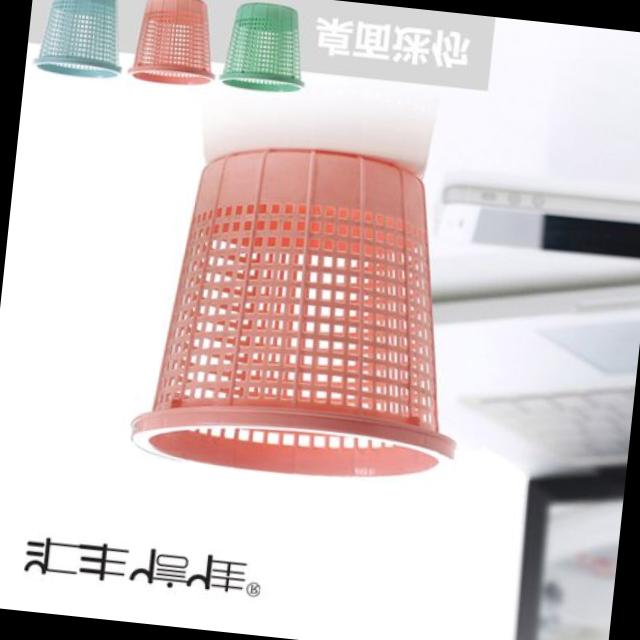dustbin: (128, 125, 492, 500), (125, 0, 223, 102), (217, 0, 315, 100), (27, 0, 132, 88)
